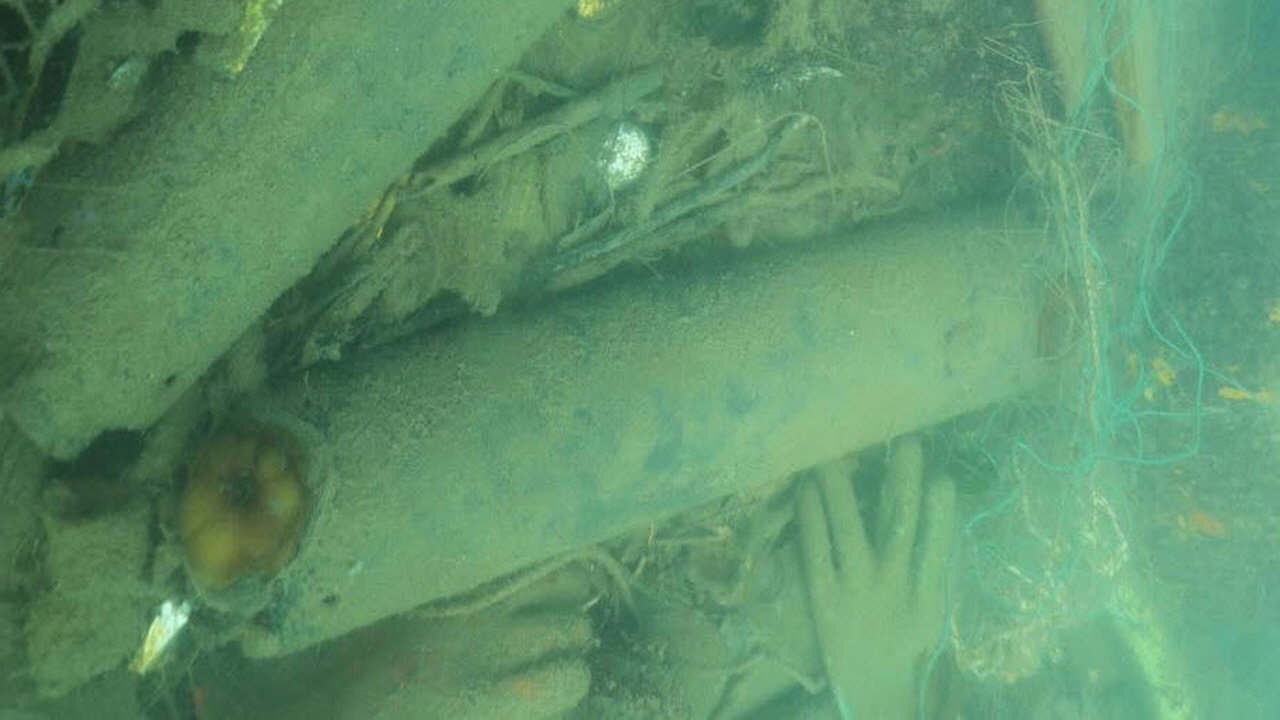eel fish trap: (234, 200, 1030, 654), (0, 0, 576, 461)
